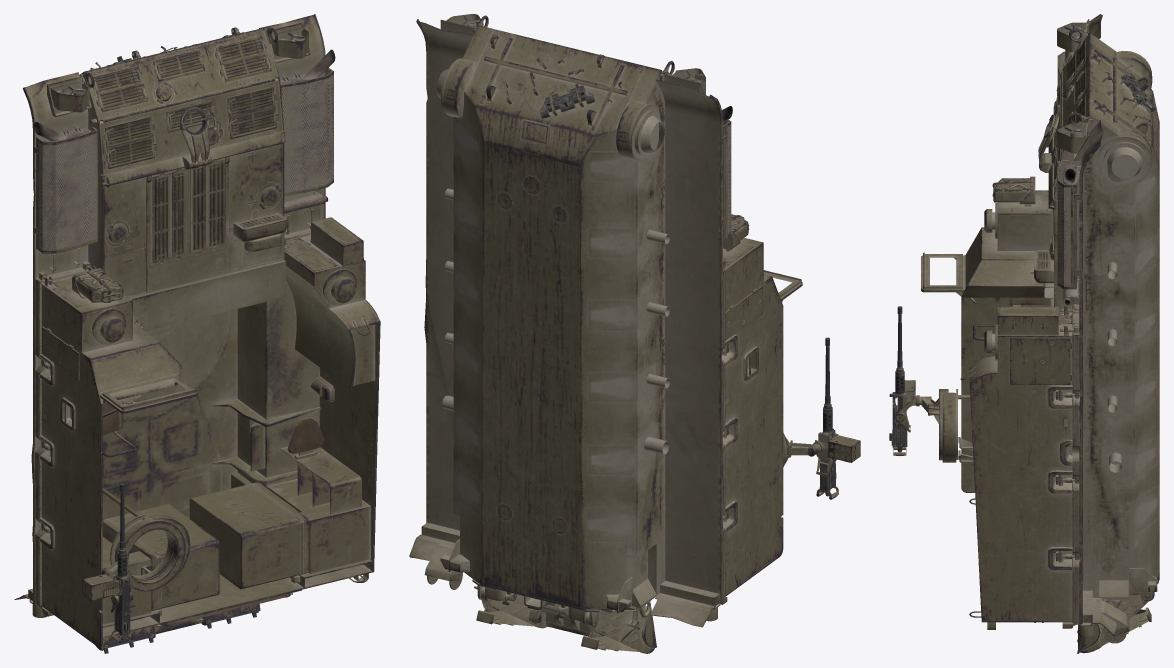
The model's file is Hull.glb.
The picture shows the model from 3 angles, left to right: view 1: azimuth 30°, elevation 25°; view 2: azimuth 150°, elevation 25°; view 3: azimuth 270°, elevation 25°; orthographic projection. The views are drawn at different scales.
Parts seen in each view (by area): view 1: set_0_group_0; view 2: set_0_group_0; view 3: set_0_group_0.
Boxes of the visible parts, x1,y1,x2,y2 form: set_0_group_0: [14, 14, 380, 653]; set_0_group_0: [409, 14, 860, 653]; set_0_group_0: [889, 14, 1159, 653].
Size of the model in its own units: 3.7 by 6.22 by 2.78.
1 material, 1 textured.
